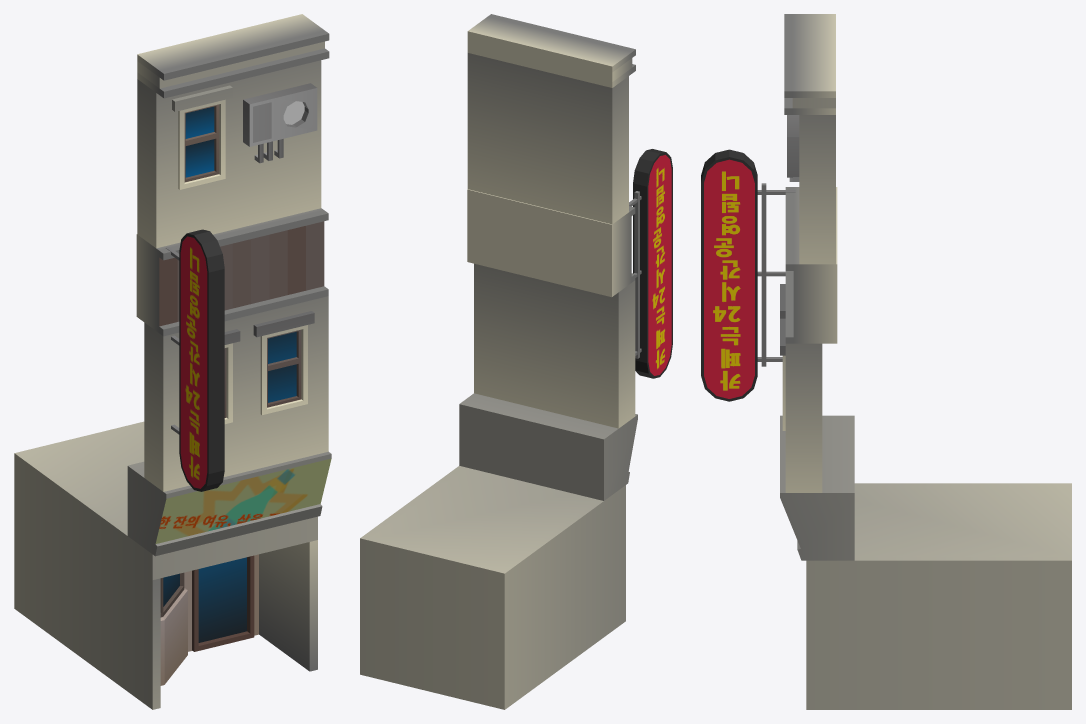
File: B02_Facade_03_A.fbx
3 renders of one model, left to right at view 1: azimuth 30°, elevation 25°; view 2: azimuth 150°, elevation 25°; view 3: azimuth 270°, elevation 25°, orthographic. The views are drawn at different scales.
Visible parts, largest first — view 1: B02_Facade_03_A; view 2: B02_Facade_03_A; view 3: B02_Facade_03_A.
Part boxes in pixels (<box>): B02_Facade_03_A: <box>14,14,331,709</box>; B02_Facade_03_A: <box>360,14,672,709</box>; B02_Facade_03_A: <box>701,14,1071,709</box>.
Bounding box in the file's own units: 500 × 1864 × 1013.
